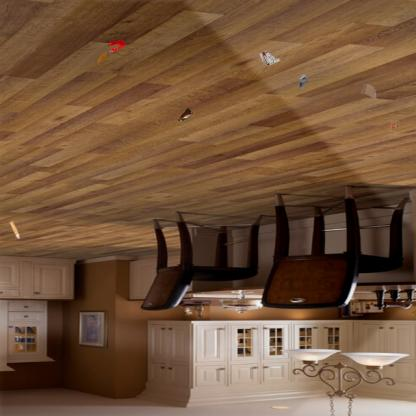dirty: (258, 48, 280, 67), (358, 82, 378, 102), (176, 106, 194, 124), (8, 219, 22, 239), (388, 119, 402, 134), (298, 74, 308, 88)
liquid: (107, 38, 126, 54), (96, 52, 106, 64)
